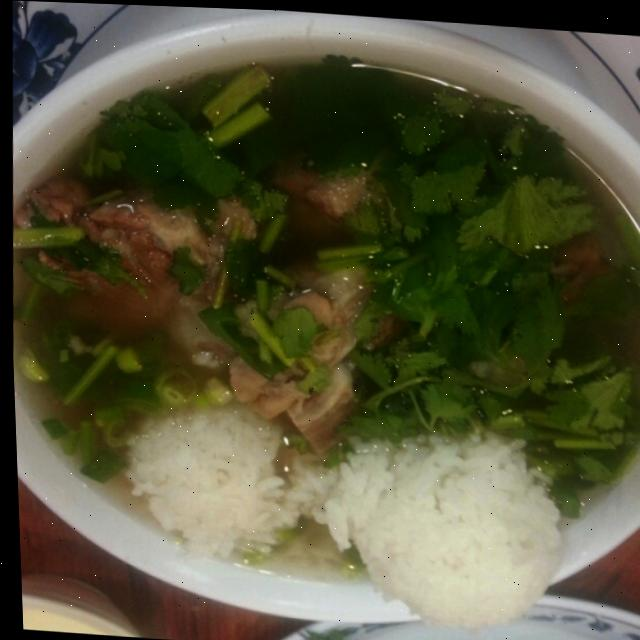汤锅炖物: (9, 14, 640, 634)
